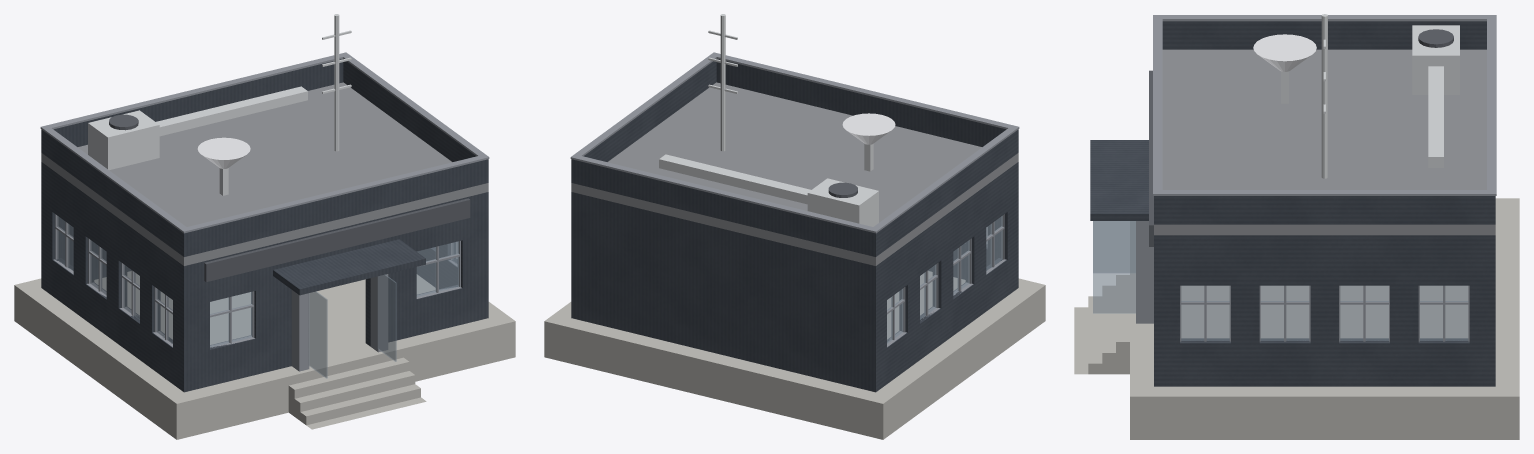
The model's file is spaces-ext-ops.glb.
3 views of the same model, side by side, from view 1: azimuth 30°, elevation 25°; view 2: azimuth 150°, elevation 25°; view 3: azimuth 270°, elevation 25° (orthographic). The views are drawn at different scales.
Parts seen in each view (by area): view 1: ops exterior; view 2: ops exterior; view 3: ops exterior.
Part boxes in pixels (x1,y1,x2,y2): ops exterior: (14, 14, 515, 439); ops exterior: (544, 14, 1045, 439); ops exterior: (1074, 14, 1519, 439).
Size of the model in its own units: 11.8 by 10.2 by 11.2.
8 materials, 1 textured.
